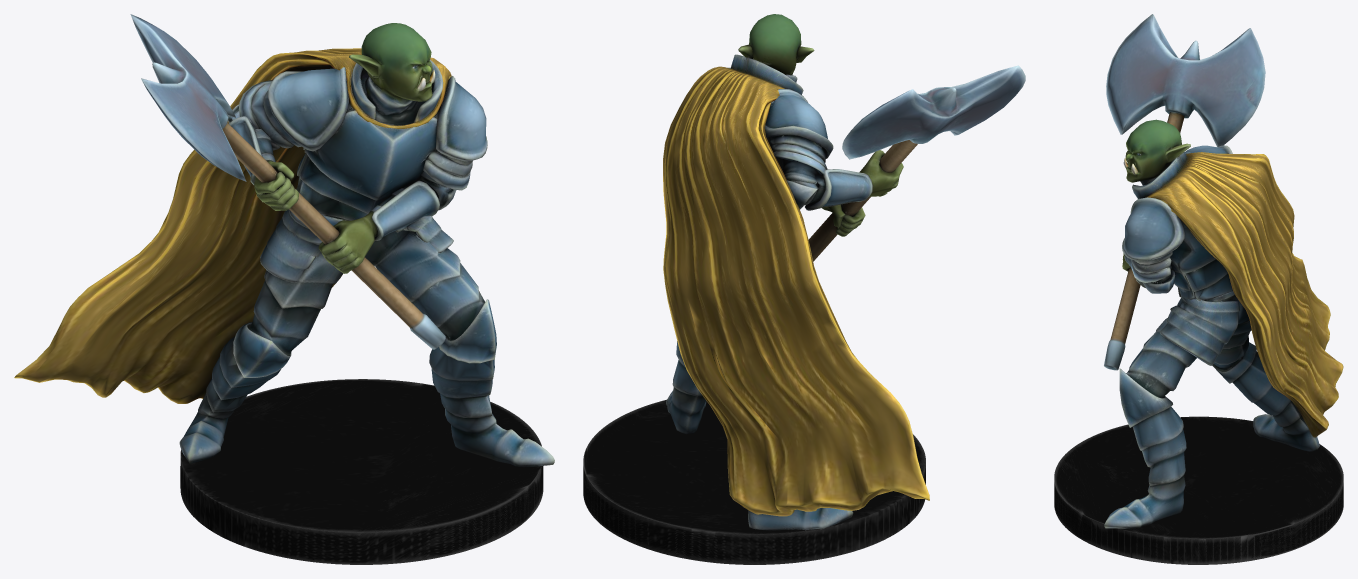
The model's file is MZ4250 - Half Orc Paladin.glb.
The picture shows the model from 3 angles, left to right: view 1: azimuth 30°, elevation 25°; view 2: azimuth 150°, elevation 25°; view 3: azimuth 270°, elevation 25°; orthographic projection. The views are drawn at different scales.
Parts seen in each view (by area): view 1: body_low.001, base_low.001, axe_low.001; view 2: body_low.001, base_low.001, axe_low.001; view 3: body_low.001, base_low.001, axe_low.001.
Part boxes in pixels (x1,y1,x2,y2): body_low.001: [14, 23, 554, 467]; base_low.001: [180, 379, 543, 564]; axe_low.001: [130, 14, 445, 349]; body_low.001: [663, 14, 929, 530]; base_low.001: [583, 399, 925, 564]; axe_low.001: [808, 65, 1025, 261]; body_low.001: [1104, 119, 1343, 528]; base_low.001: [1054, 416, 1343, 564]; axe_low.001: [1104, 14, 1265, 370].
Bounding box in the file's own units: 5.29 × 5.95 × 3.92.
Materials: 1 (1 with a texture image).
